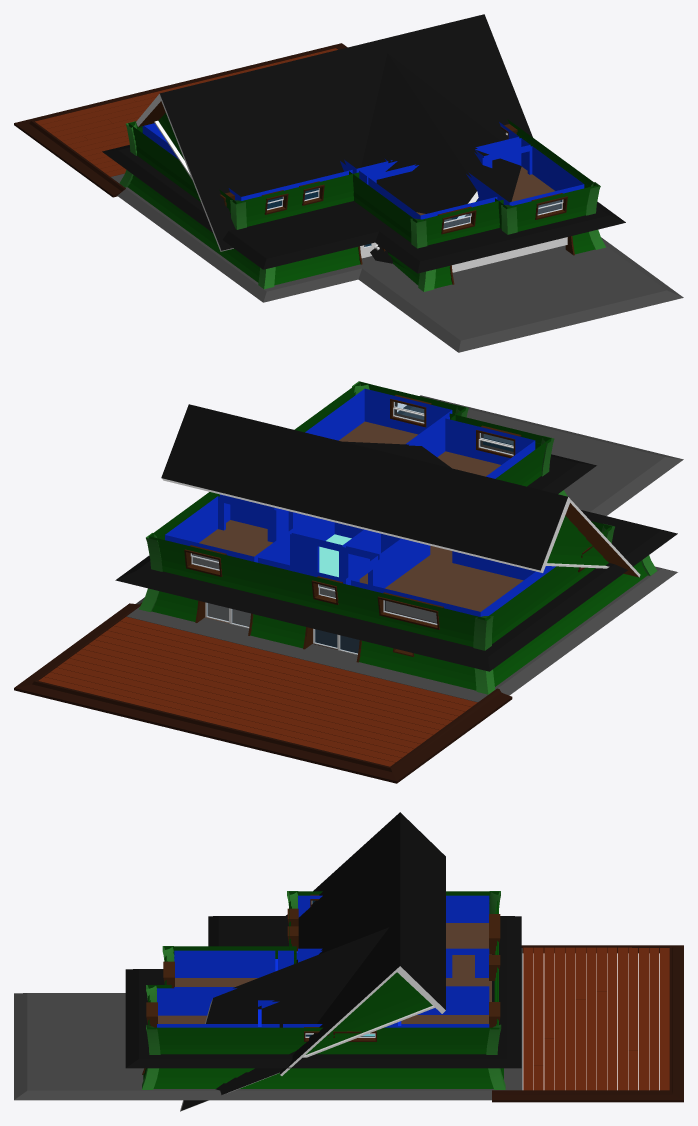
The model's file is House.FBX.
The picture shows the model from 3 angles, top to bottom: view 1: azimuth 30°, elevation 25°; view 2: azimuth 150°, elevation 25°; view 3: azimuth 270°, elevation 25°; orthographic projection. The views are drawn at different scales.
Parts seen in each view (by area): view 1: Roof, Floor_ground, Floor_second, Plane021, Walls_secondFloor, Plane008, Box211, Box262; view 2: Floor_ground, Roof, Floor_second, Walls_secondFloor, Plane021, Plane008, Box262, Box200; view 3: Floor_ground, Roof, Floor_second, Plane021, Walls_secondFloor, Plane008, Box262.
Boxes of the visible parts, left/top/right/bottom form: Roof: left=136, top=14, right=532, bottom=263; Floor_ground: left=14, top=43, right=683, bottom=352; Floor_second: left=102, top=145, right=625, bottom=273; Plane021: left=125, top=119, right=600, bottom=248; Walls_secondFloor: left=142, top=122, right=584, bottom=219; Plane008: left=119, top=170, right=605, bottom=291; Box211: left=452, top=237, right=567, bottom=272; Box262: left=154, top=113, right=476, bottom=201; Floor_ground: left=14, top=395, right=683, bottom=783; Roof: left=161, top=404, right=640, bottom=577; Floor_second: left=115, top=421, right=677, bottom=671; Walls_secondFloor: left=165, top=388, right=555, bottom=616; Plane021: left=146, top=381, right=614, bottom=650; Plane008: left=139, top=490, right=657, bottom=694; Box262: left=546, top=515, right=609, bottom=568; Box200: left=377, top=592, right=443, bottom=629; Floor_ground: left=14, top=945, right=683, bottom=1102; Roof: left=180, top=812, right=445, bottom=1111; Floor_second: left=125, top=916, right=521, bottom=1068; Plane021: left=146, top=891, right=501, bottom=1054; Walls_secondFloor: left=157, top=895, right=489, bottom=1027; Plane008: left=142, top=1068, right=505, bottom=1089; Box262: left=303, top=972, right=434, bottom=1057.
Bounding box in the file's own units: 5445 × 2447 × 9912.
